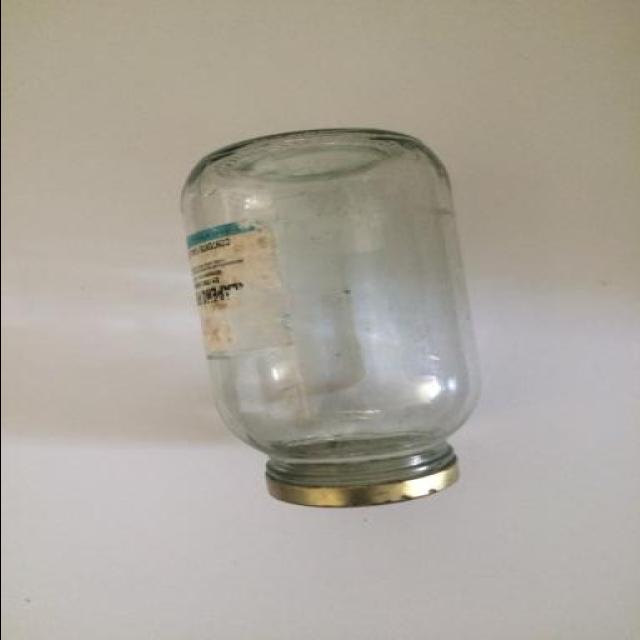Glass Bottle: (176, 130, 488, 511)
